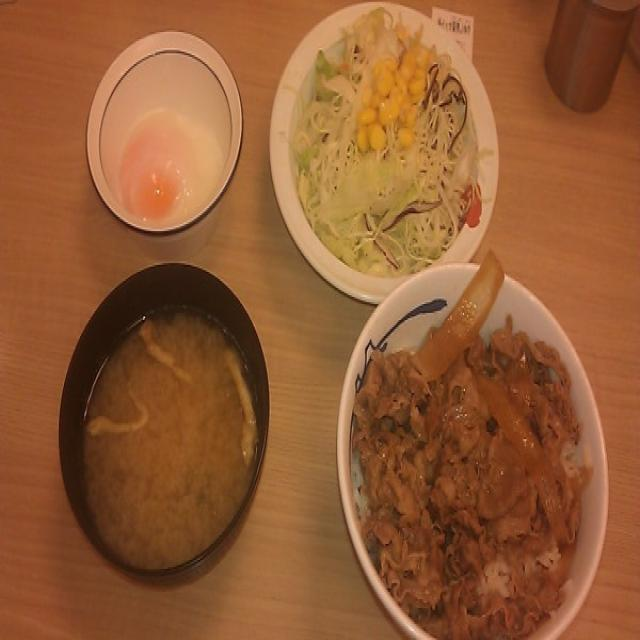Green Salad: (291, 7, 481, 255)
